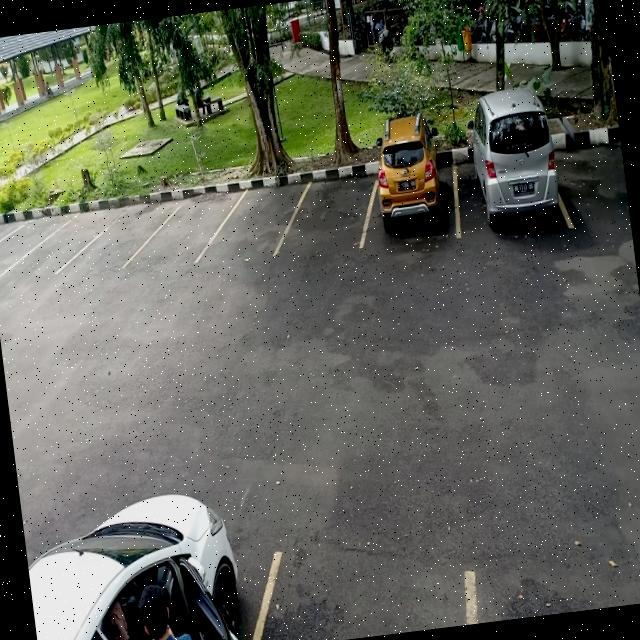empty: (278, 165, 377, 261), (209, 180, 292, 266), (141, 186, 221, 274), (82, 202, 154, 274), (26, 208, 90, 278)
occupied: (446, 113, 570, 253), (356, 132, 460, 251)
